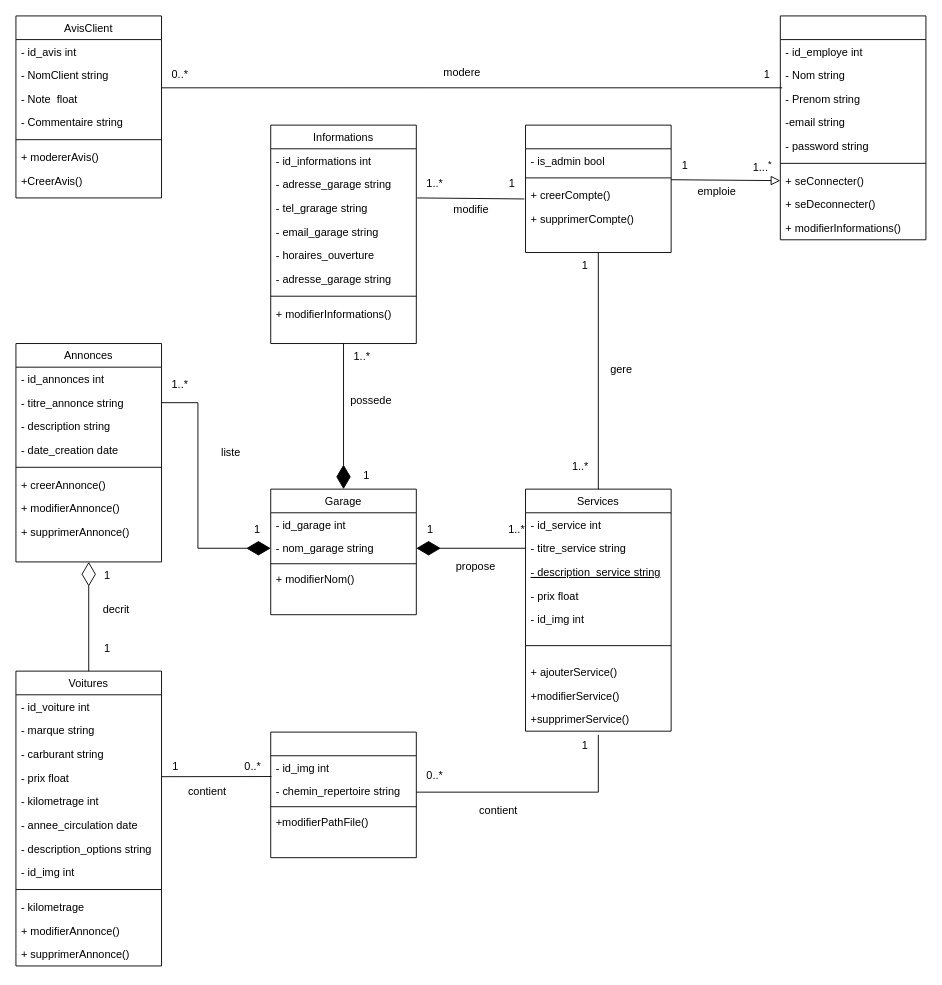
This 942x985 diagram has some shape labels left out. The shapes that lost their labels are listed below. From the top down, each one's box as (x1, y1, x2, y2) in pixels, then its label:
(779, 15, 926, 240): Employes
(525, 124, 671, 253): Employeur
(270, 731, 416, 858): Images
